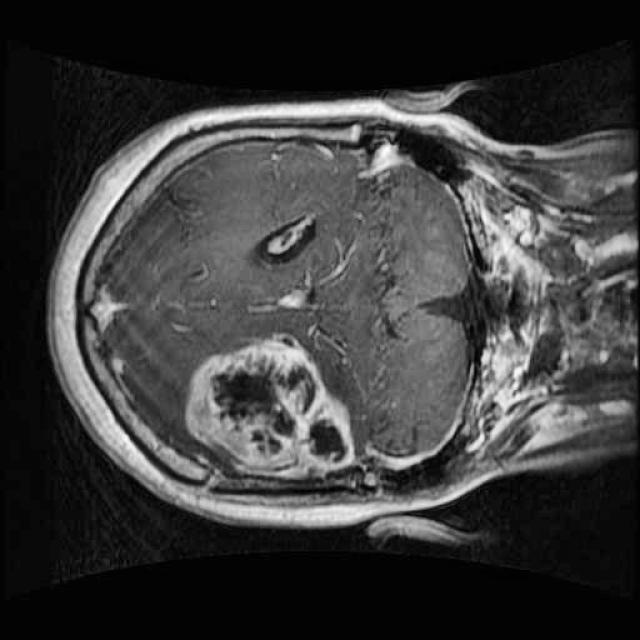Non-Tumor: (176, 328, 368, 495)
